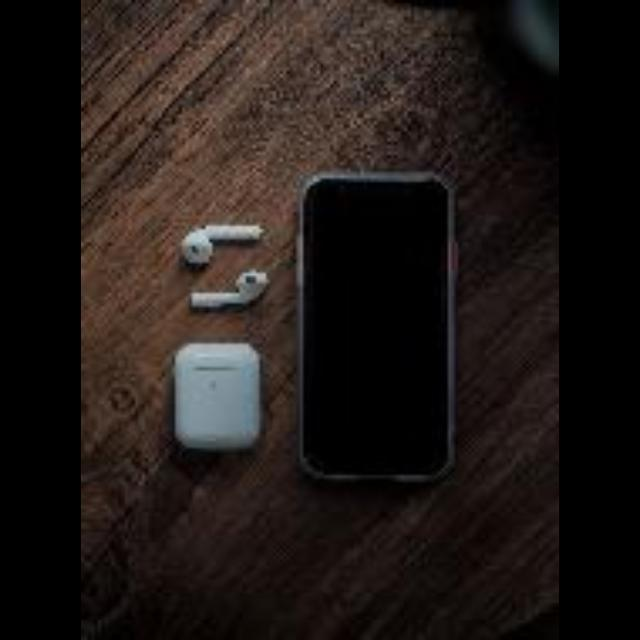phone: (292, 174, 457, 490)
